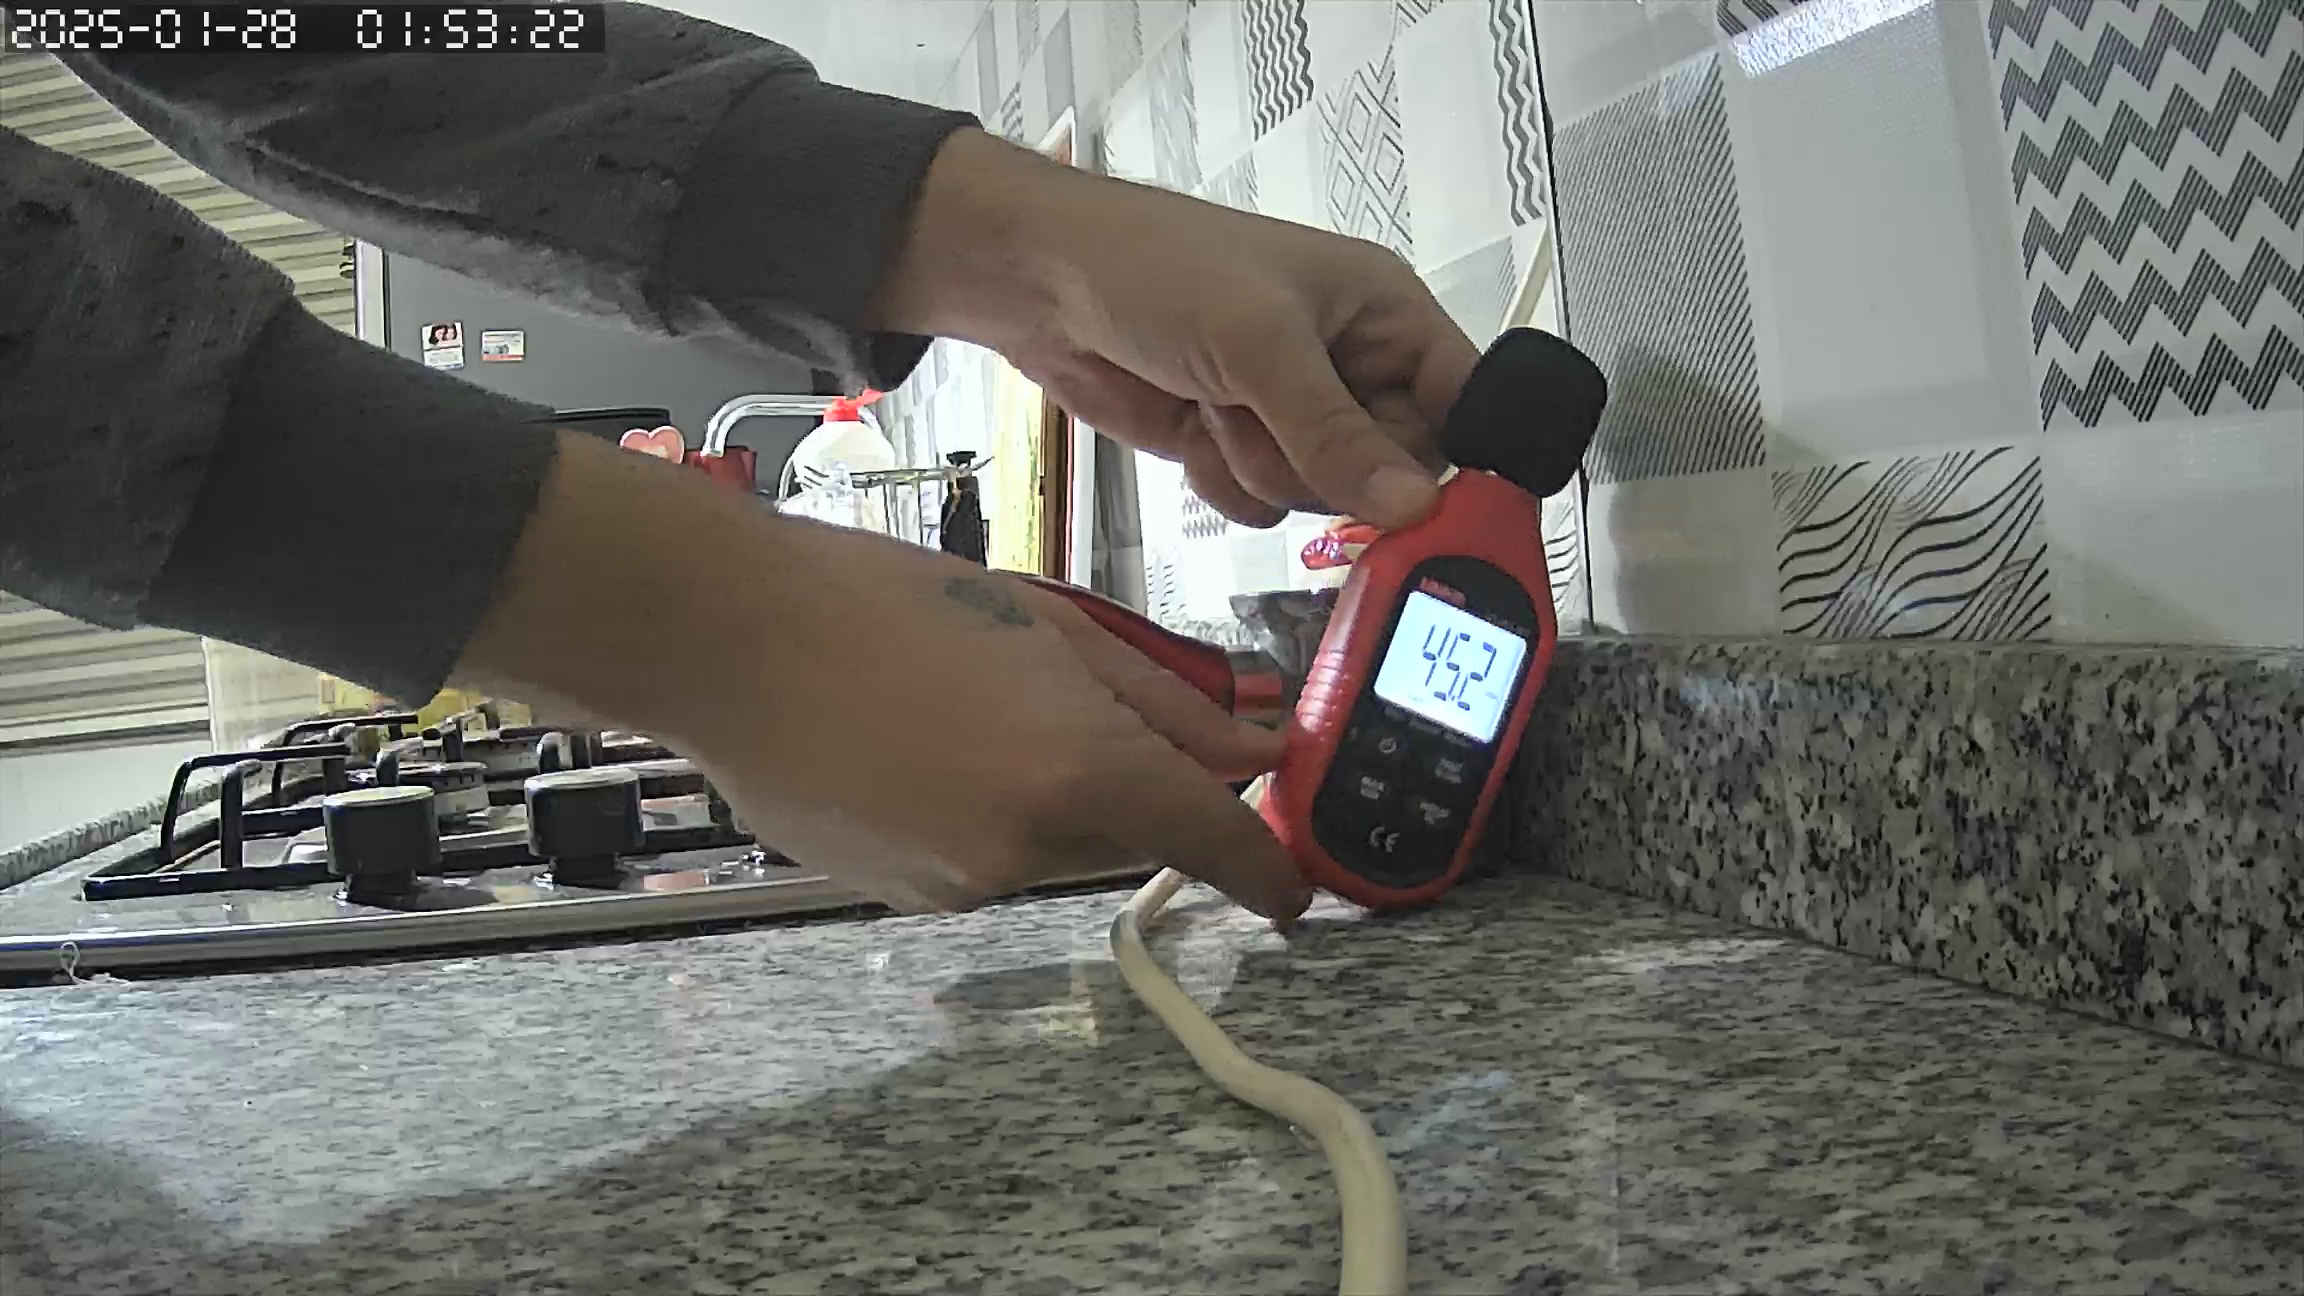screen: (1374, 587, 1530, 745)
